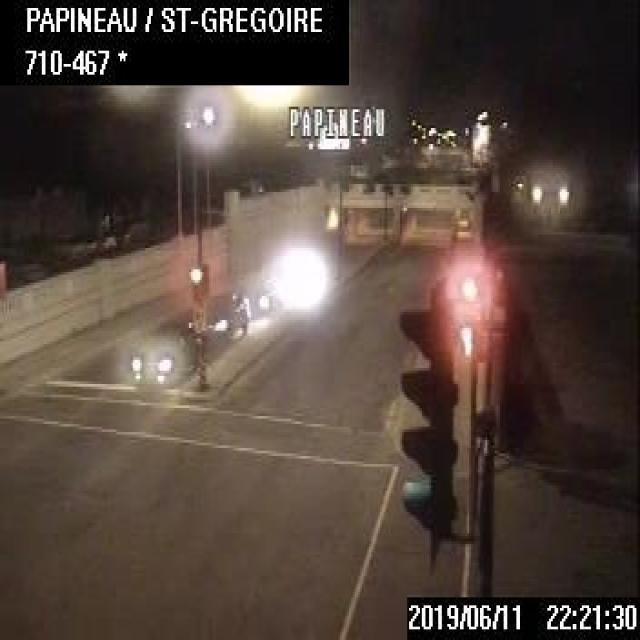vehicle: (126, 315, 198, 384), (202, 286, 247, 342), (238, 282, 276, 319)
